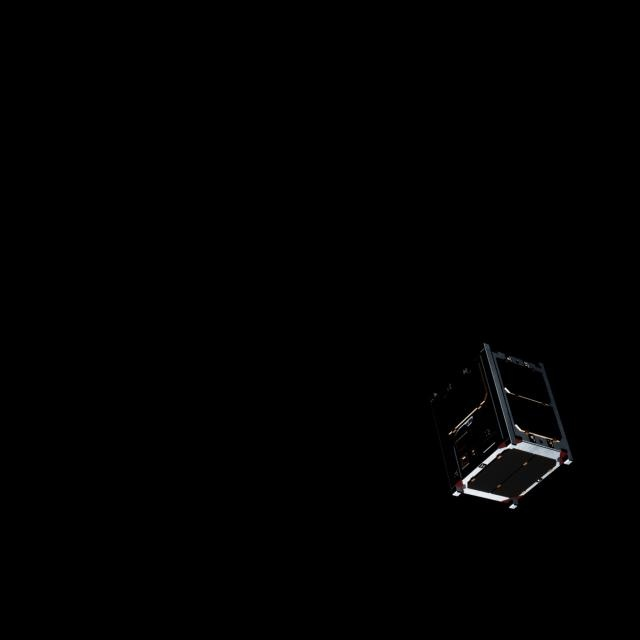satellite: (419, 342, 569, 515)
